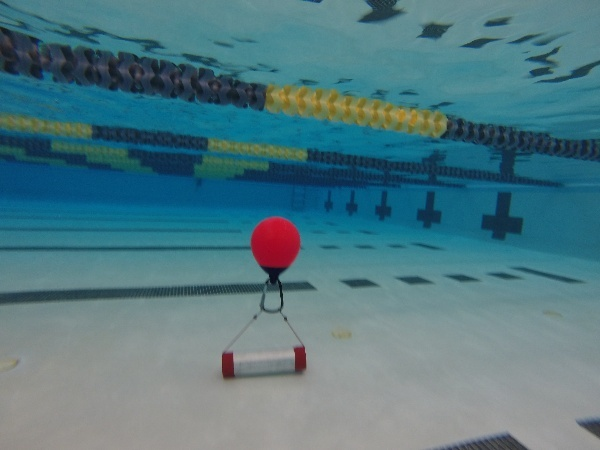buoy_red: (246, 216, 305, 288)
